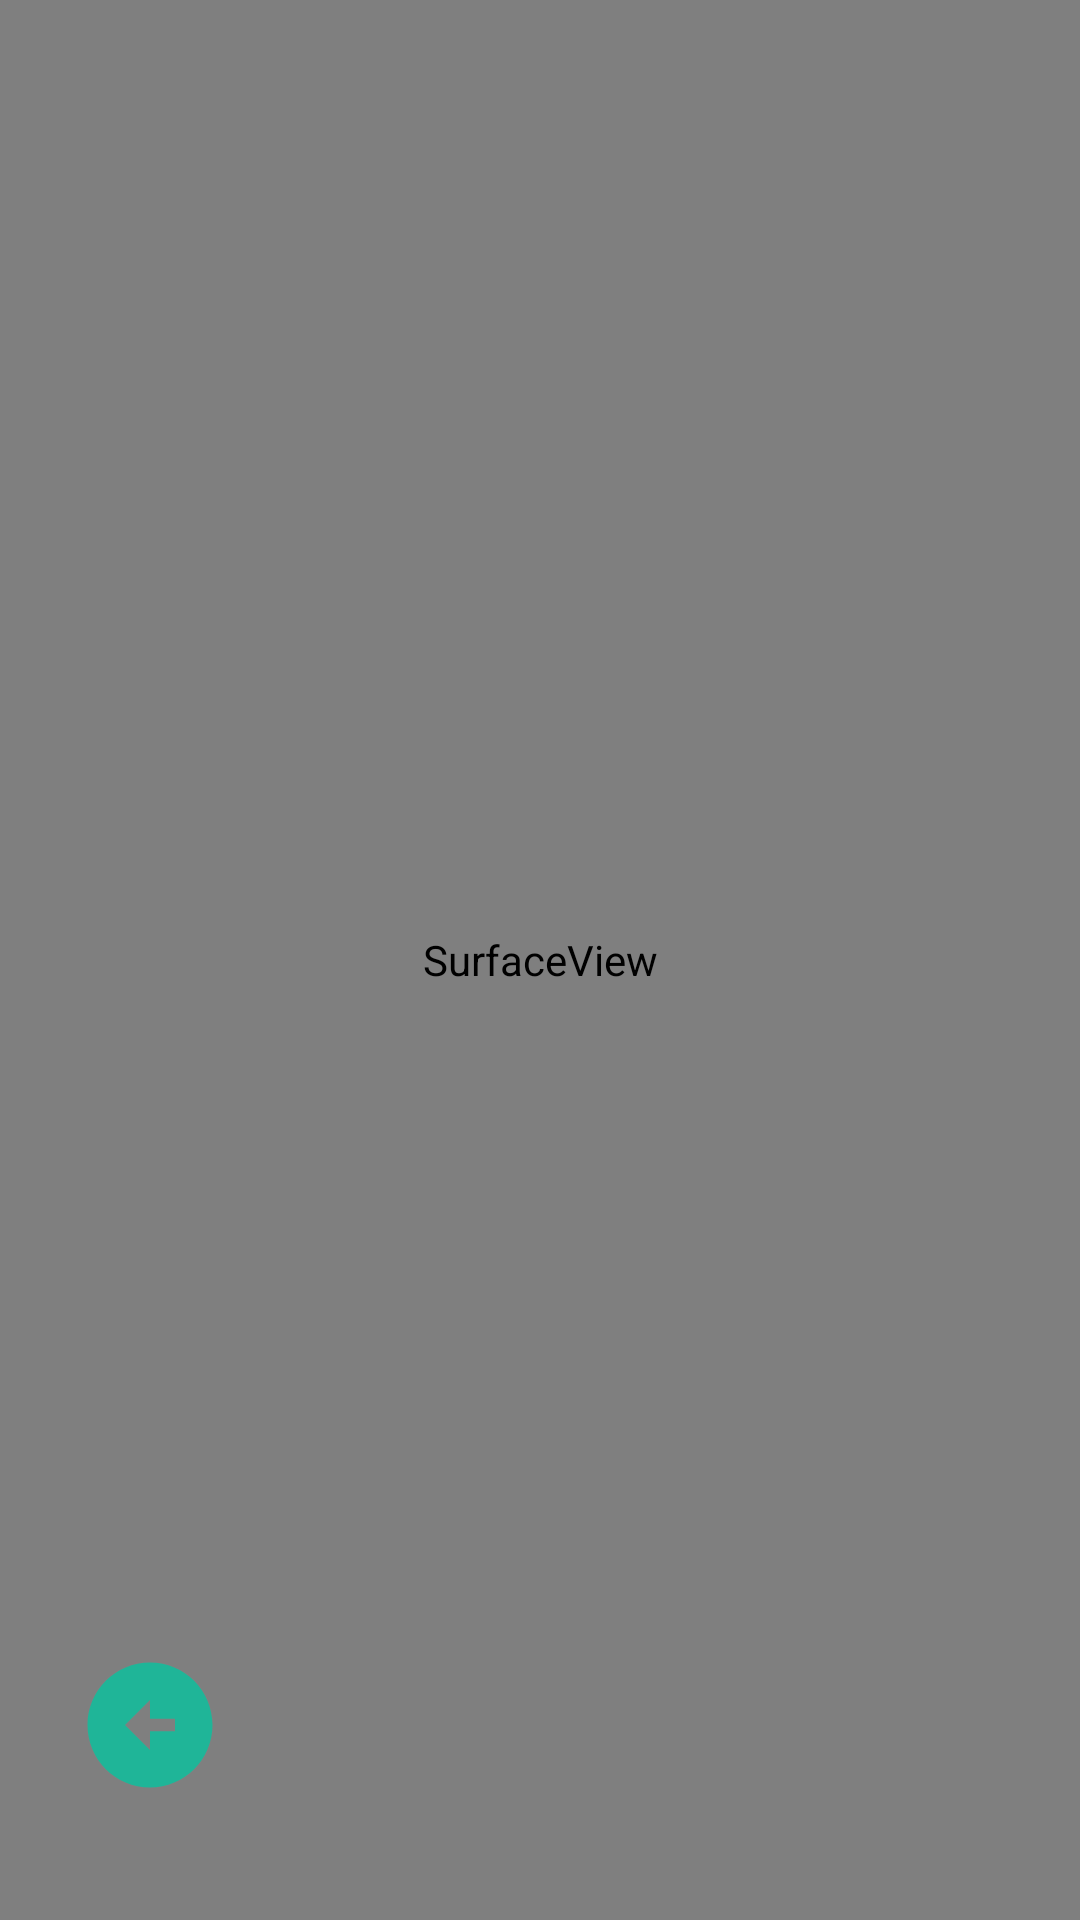

Named icons in this screenshot (1080 x 1920) and their centers, (x=x, y=y):
arrow circle left: (x=150, y=1725)
